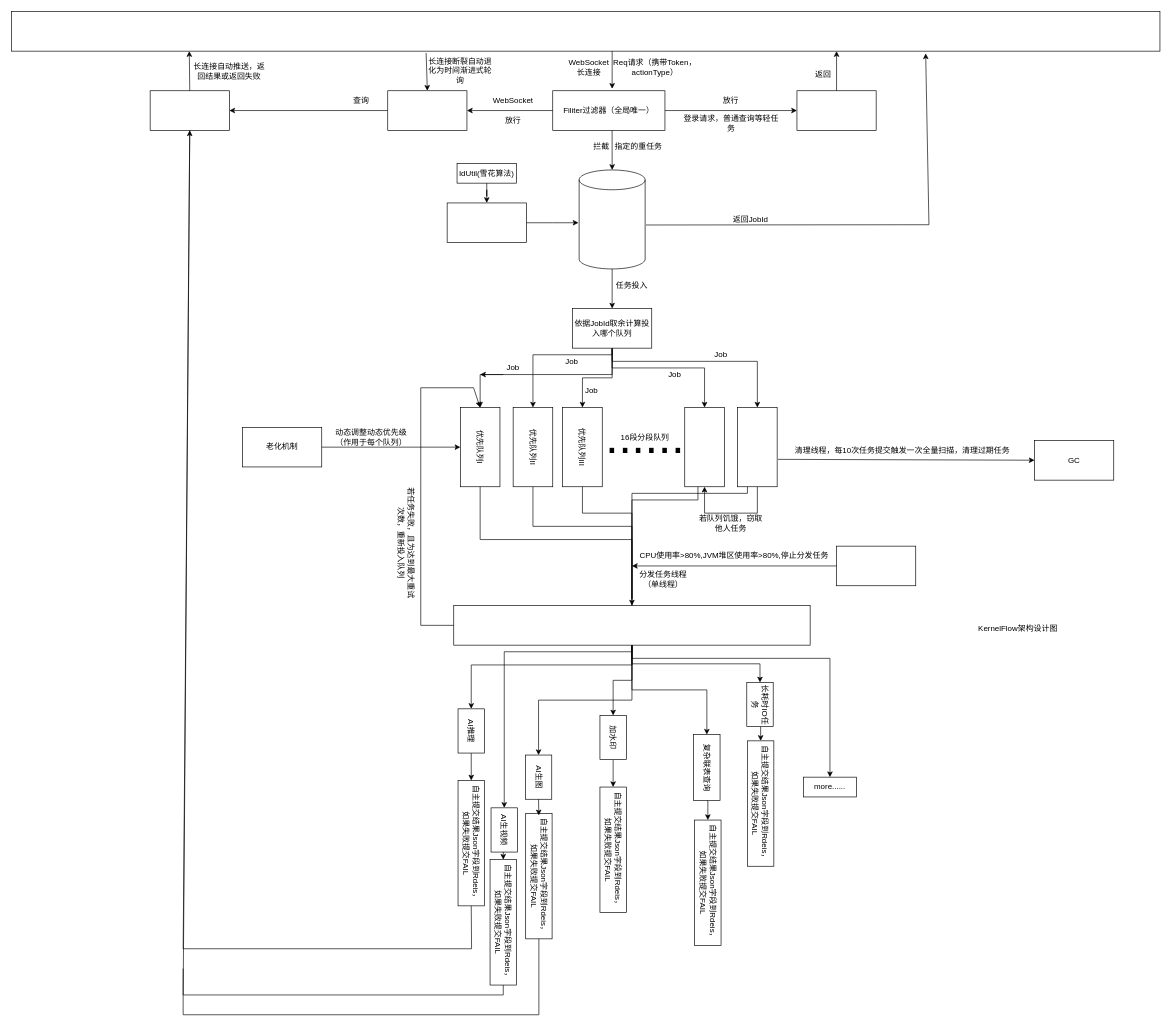
Image size: 1172x1027. Some labels were removed from this diagram. The box of each missing label's shape, as (x1, y1, x2, y2) in pixels:
InitJob（通过token，actionType）判断静态优先级: (446, 202, 526, 243)
Pipe（预解析token,actionType字段），提交Job至队列: (578, 169, 645, 269)
Redis,: (149, 90, 229, 130)
Servlet处理: (796, 90, 876, 130)
Servlet（Poll ）处理: (387, 90, 467, 130)
Web任务（混合负载类型）: (11, 11, 1160, 51)
任务执行线程池，若无空闲线程，委托分发线程执行: (453, 605, 810, 645)
优先队列IIIIXX: (737, 407, 777, 487)
优先队列XV: (684, 407, 724, 487)
系统负载检测器: (836, 545, 916, 586)
